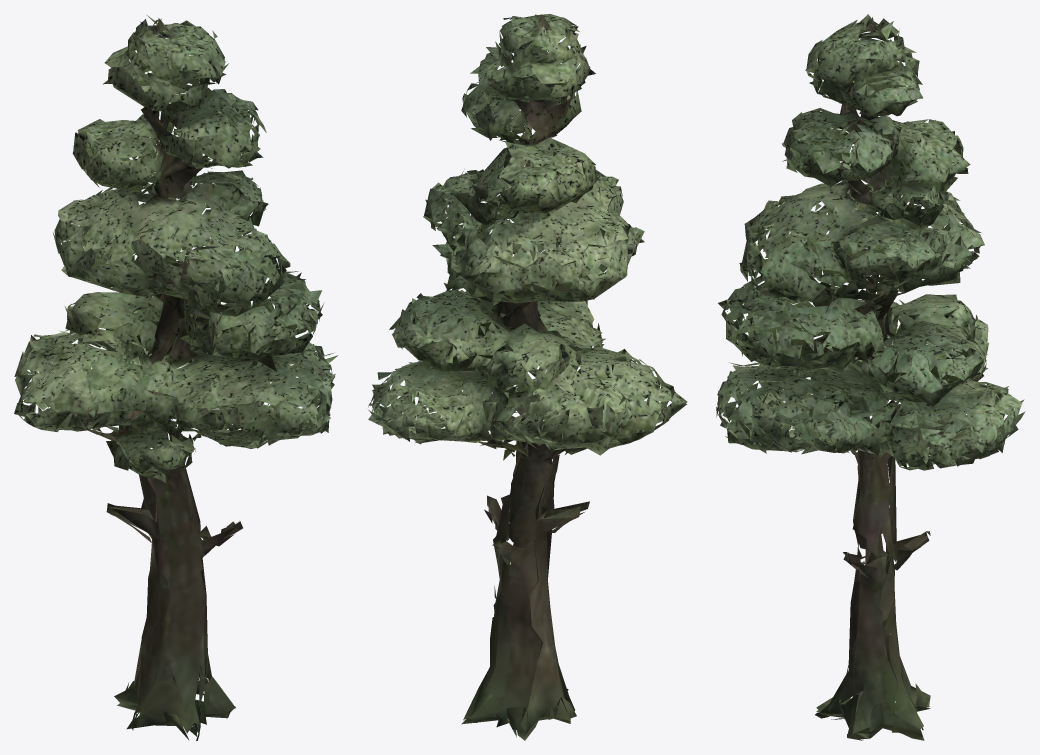
Rendered from tree_tall_b_meshy_hd_l25.glb.
The picture shows the model from 3 angles, left to right: view 1: azimuth 30°, elevation 25°; view 2: azimuth 150°, elevation 25°; view 3: azimuth 270°, elevation 25°; orthographic projection.
Visible parts, largest first — view 1: tree_tall_b_meshy_hd; view 2: tree_tall_b_meshy_hd; view 3: tree_tall_b_meshy_hd.
Boxes of the visible parts, bbox=[...] form: tree_tall_b_meshy_hd: bbox=[14, 15, 337, 740]; tree_tall_b_meshy_hd: bbox=[368, 14, 687, 740]; tree_tall_b_meshy_hd: bbox=[716, 14, 1025, 740].
Bounding box in the file's own units: 2 × 4.65 × 1.87.
1 material, 1 textured.
